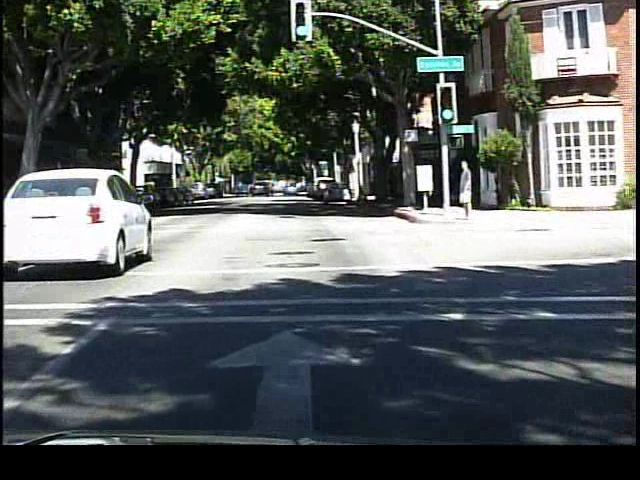person: (455, 158, 476, 219)
